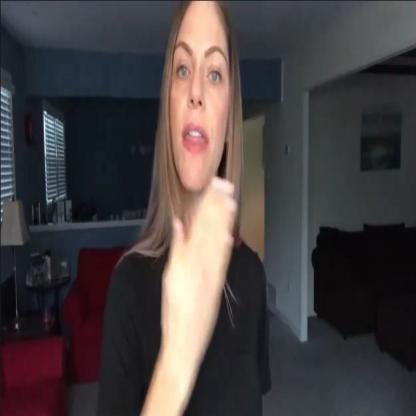ThankYou: (142, 0, 264, 374)
